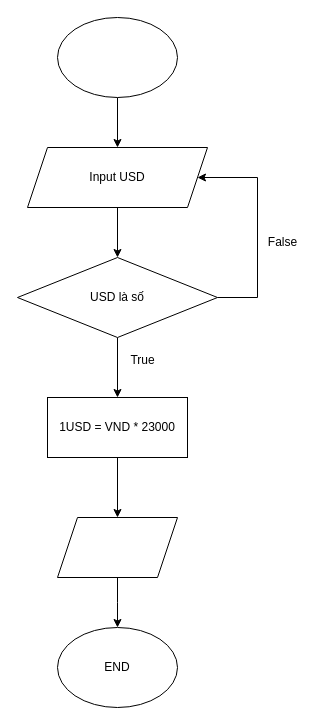
Image size: 325x725. Some labels were removed from this diagram. Here are the shapes that lost their labels. From the top down, the centre of each, then its label:
the point at 117,57: BEGIN
the point at 117,547: Display value
